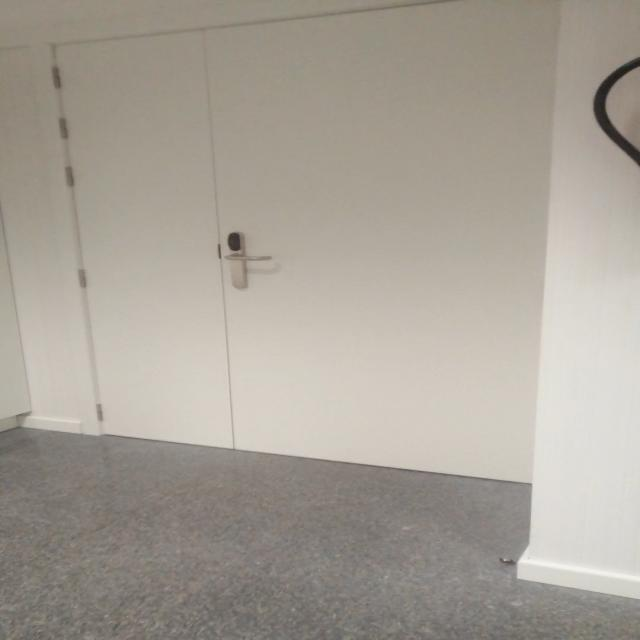door_handle: (218, 253, 277, 263)
